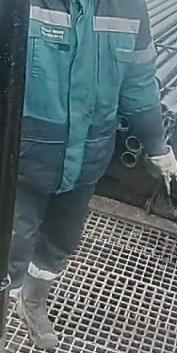gloves: (144, 144, 176, 196)
vest: (1, 0, 153, 195)
